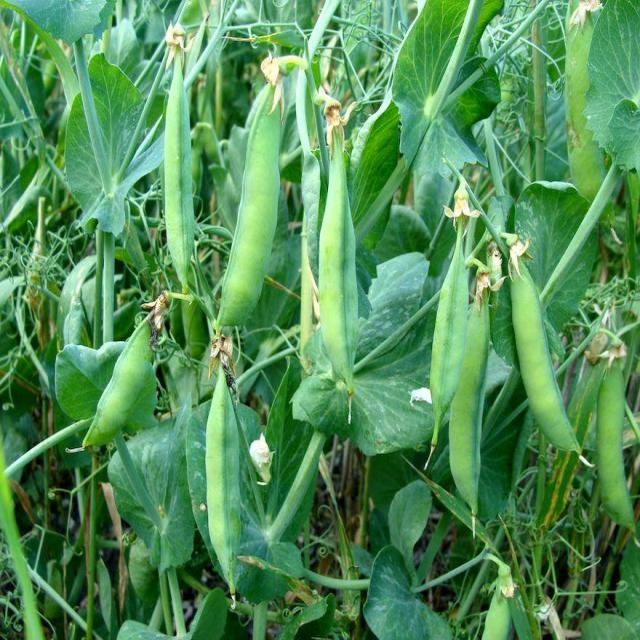Peas: (218, 72, 282, 329), (509, 248, 581, 456), (315, 126, 363, 394), (427, 212, 466, 474), (448, 272, 488, 512), (158, 45, 194, 299), (594, 356, 636, 536)
